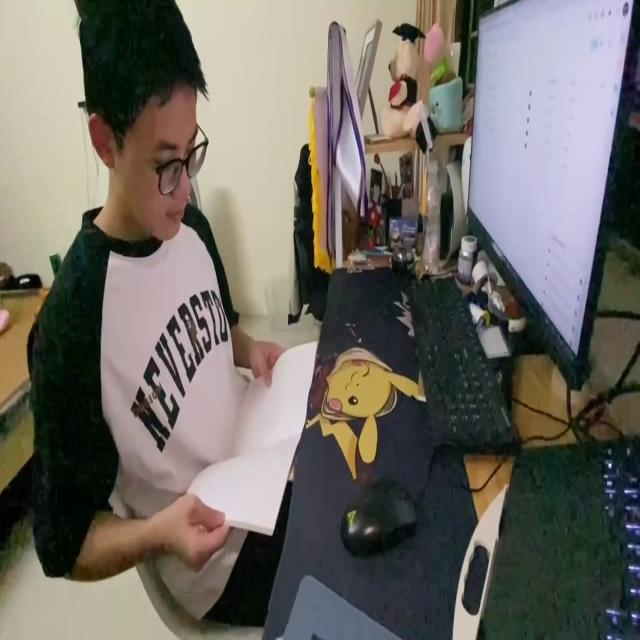book: (185, 336, 318, 538)
laptop: (464, 0, 640, 399)
student: (25, 0, 294, 636)
